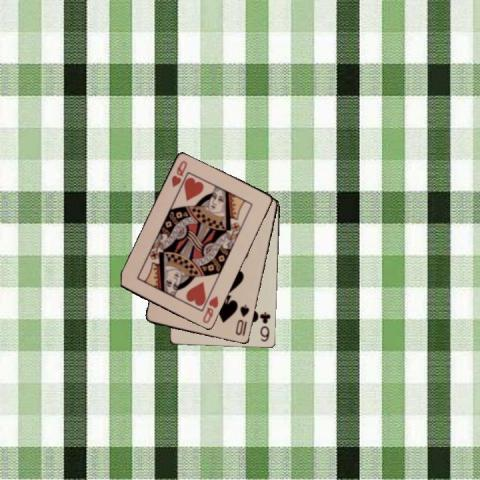10s: (233, 302, 251, 336)
6c: (257, 309, 272, 343)
Qh: (199, 294, 220, 326), (168, 158, 188, 189)
